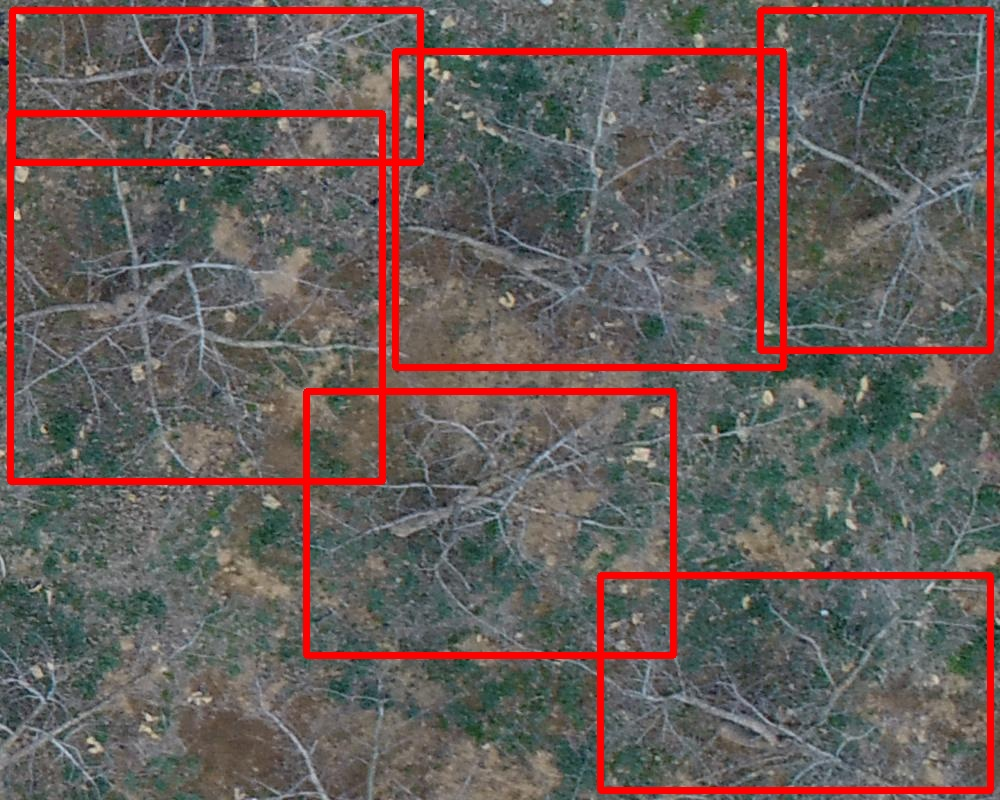apple: (10, 113, 382, 481), (395, 51, 783, 367), (306, 391, 673, 655), (600, 575, 990, 790), (760, 10, 990, 350), (12, 10, 420, 162)
